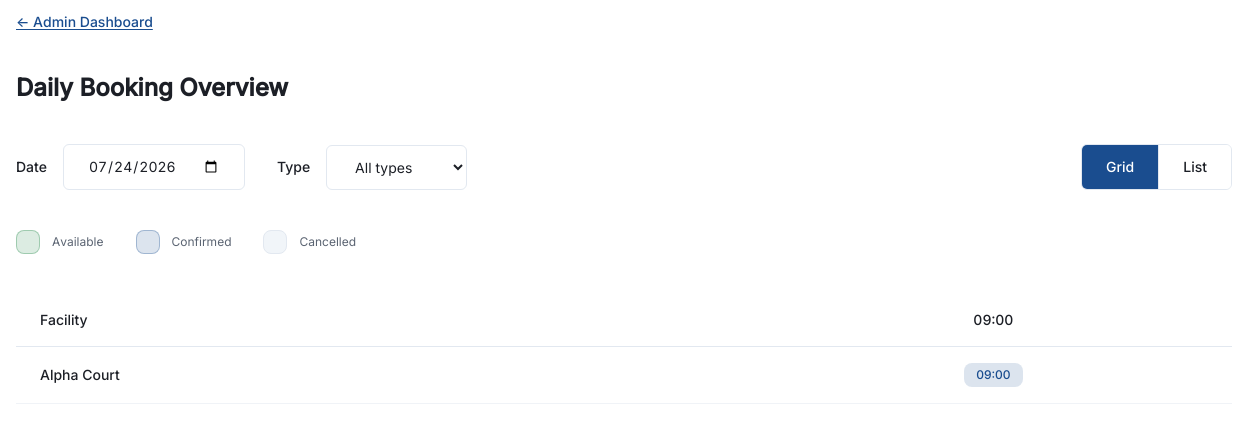
Scenario: TenantDailyOverview › tooltip appears on hover of the Confirmed/Cancelled label — NOT just the time text (List view)
Click the button "List".
click(1195, 167)  # box left=1158, top=145, right=1231, bottom=189
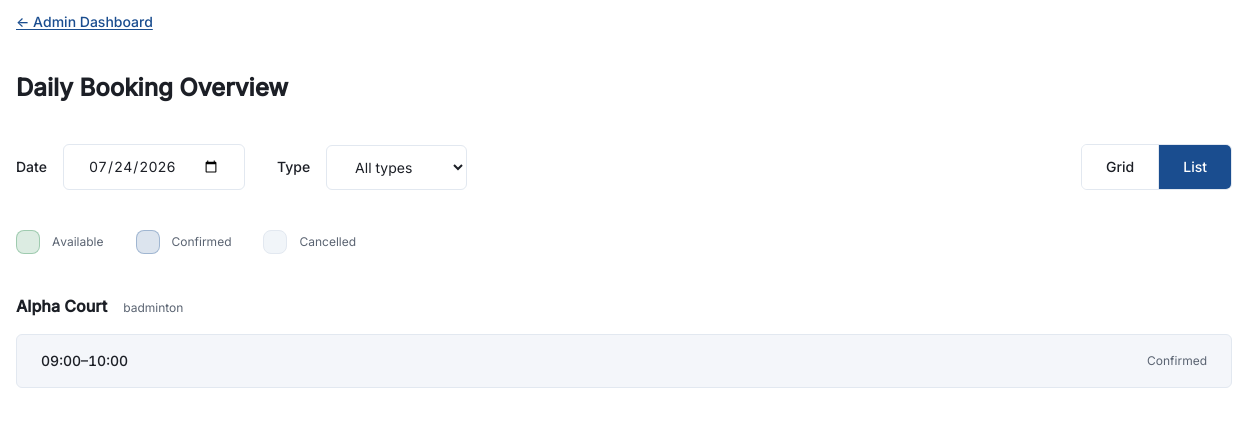
Hover over the text "Confirmed".
mouse_move(1177, 361)  # box left=1147, top=353, right=1207, bottom=369
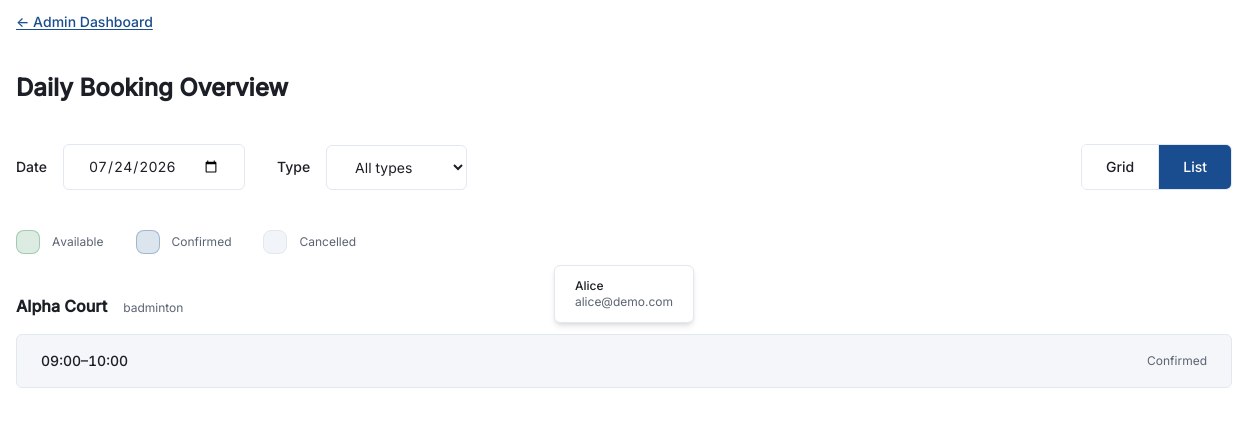
Check: the tooltip "Alice alice@demo.com" is shown, box left=554, top=265, right=694, bottom=323
Check: the tooltip shows "Alice", box left=575, top=278, right=604, bottom=293
